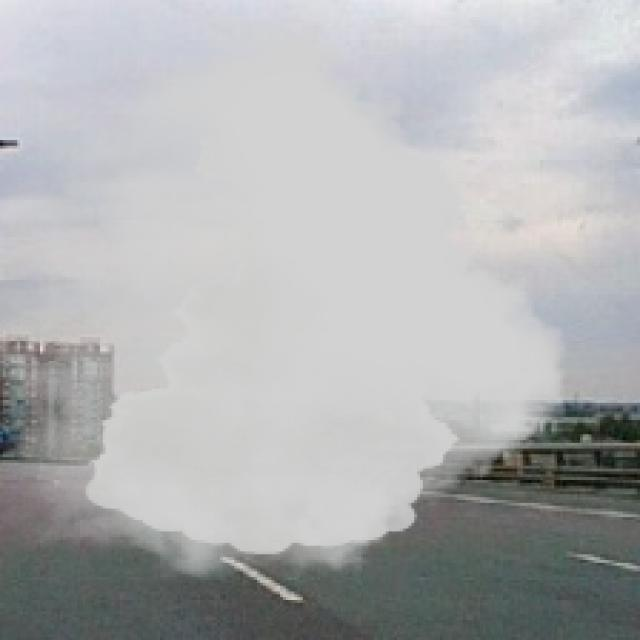smoke: (0, 20, 566, 580)
